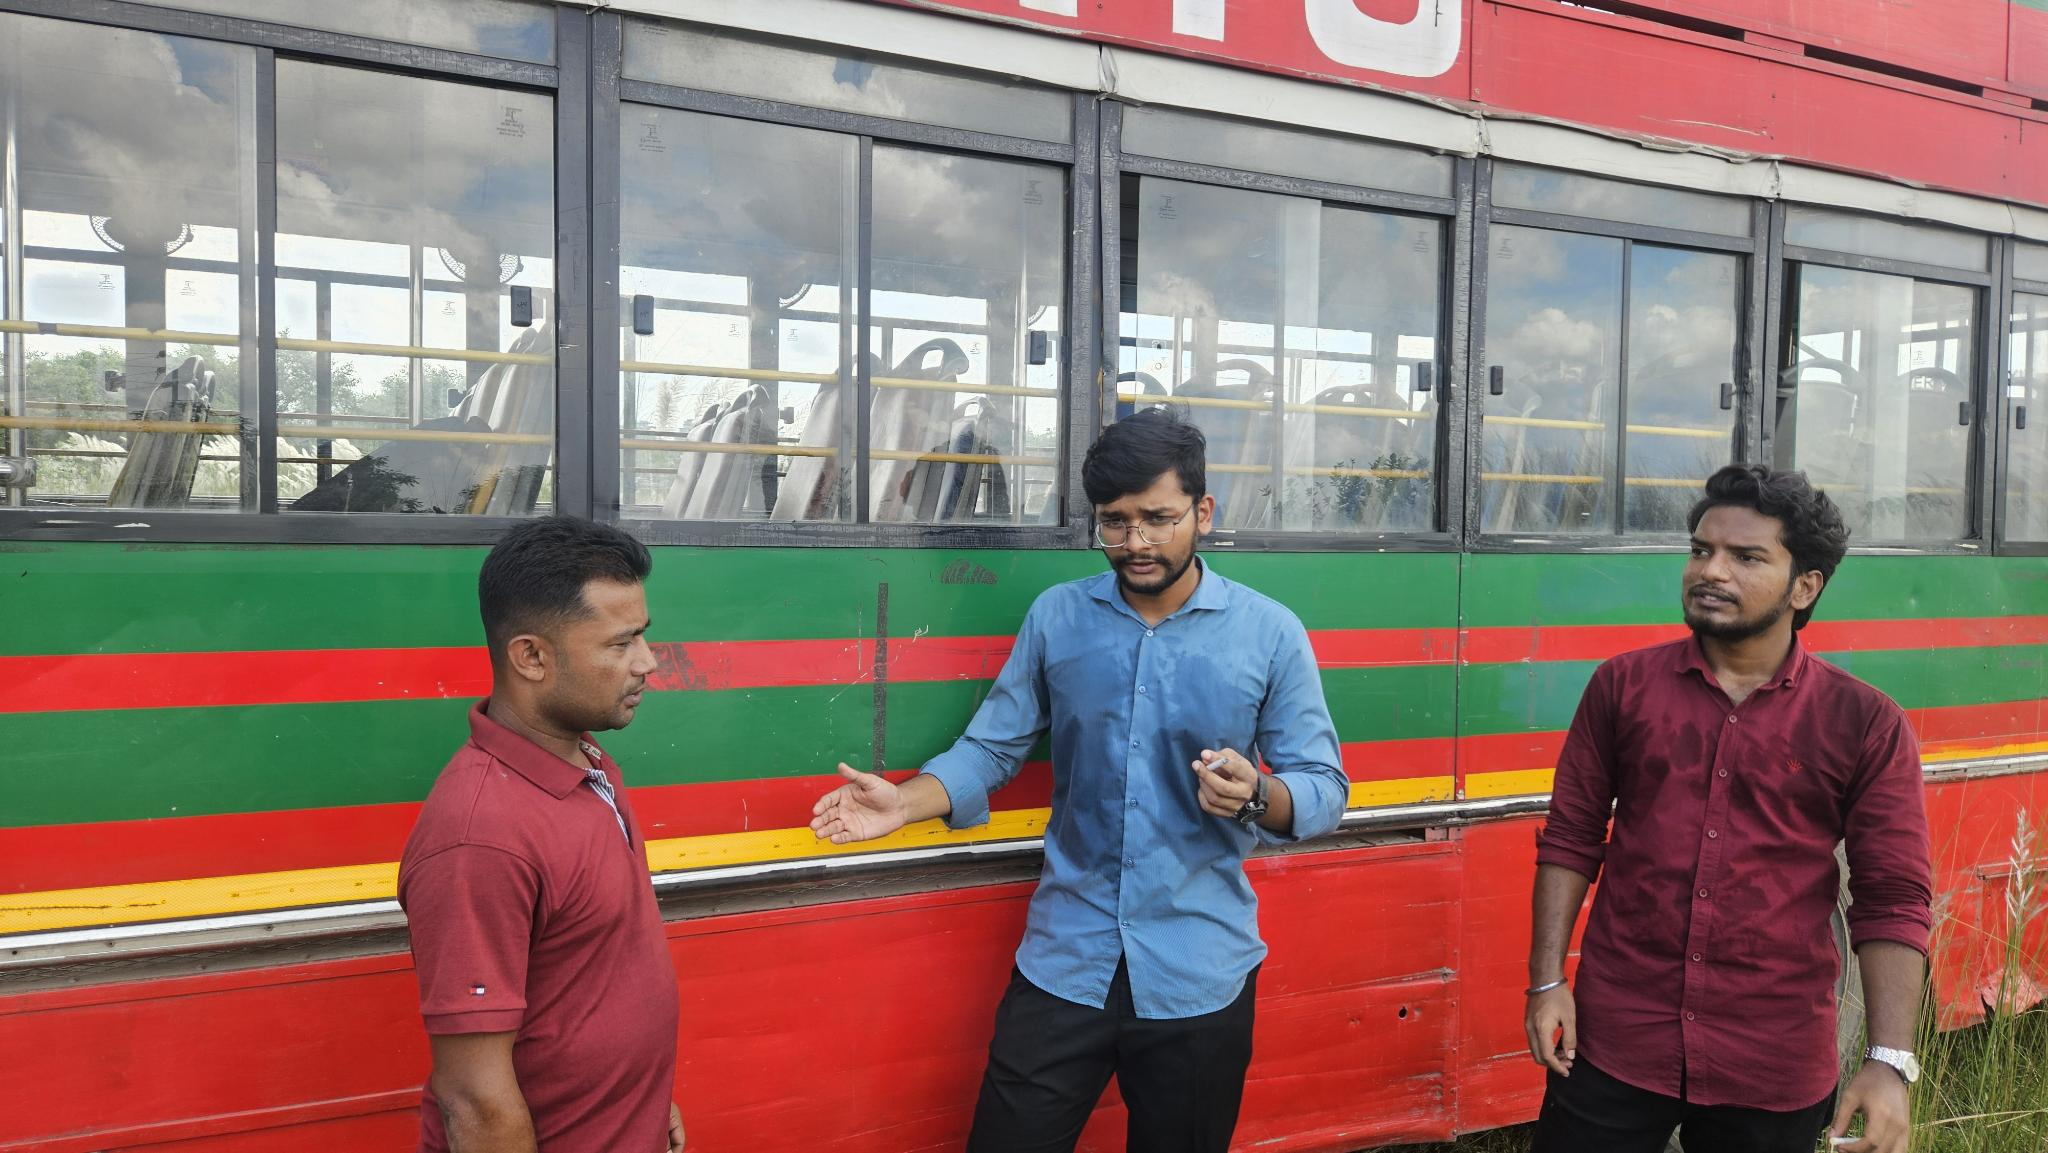cigarette: (1824, 1132, 1865, 1150), (1203, 755, 1232, 773)
nonSmoker: (398, 517, 682, 1153)
smoker: (812, 413, 1349, 1153), (1526, 461, 1937, 1153)
